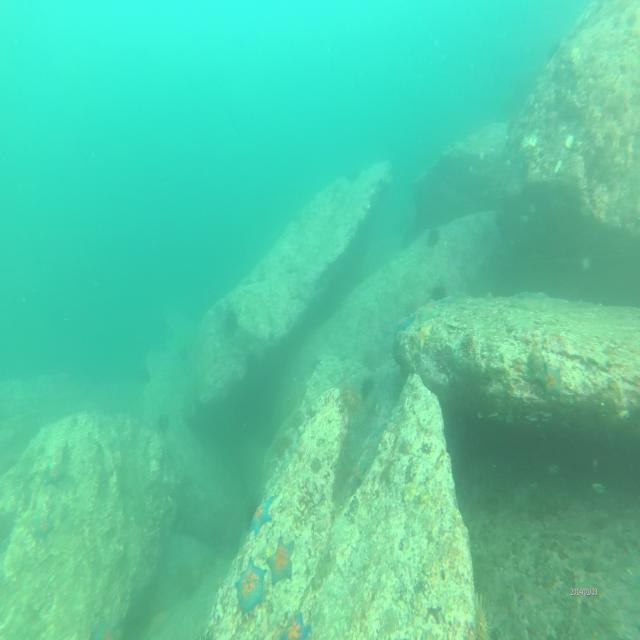echinus: (340, 384, 360, 422), (224, 310, 238, 332), (427, 226, 439, 247), (432, 283, 446, 301)
starfish: (230, 561, 264, 616), (267, 539, 298, 581), (536, 362, 561, 401), (245, 499, 272, 535), (278, 611, 310, 640), (348, 463, 368, 495), (32, 513, 52, 543), (392, 312, 416, 335), (417, 301, 441, 321), (46, 461, 63, 488), (415, 327, 433, 350)
